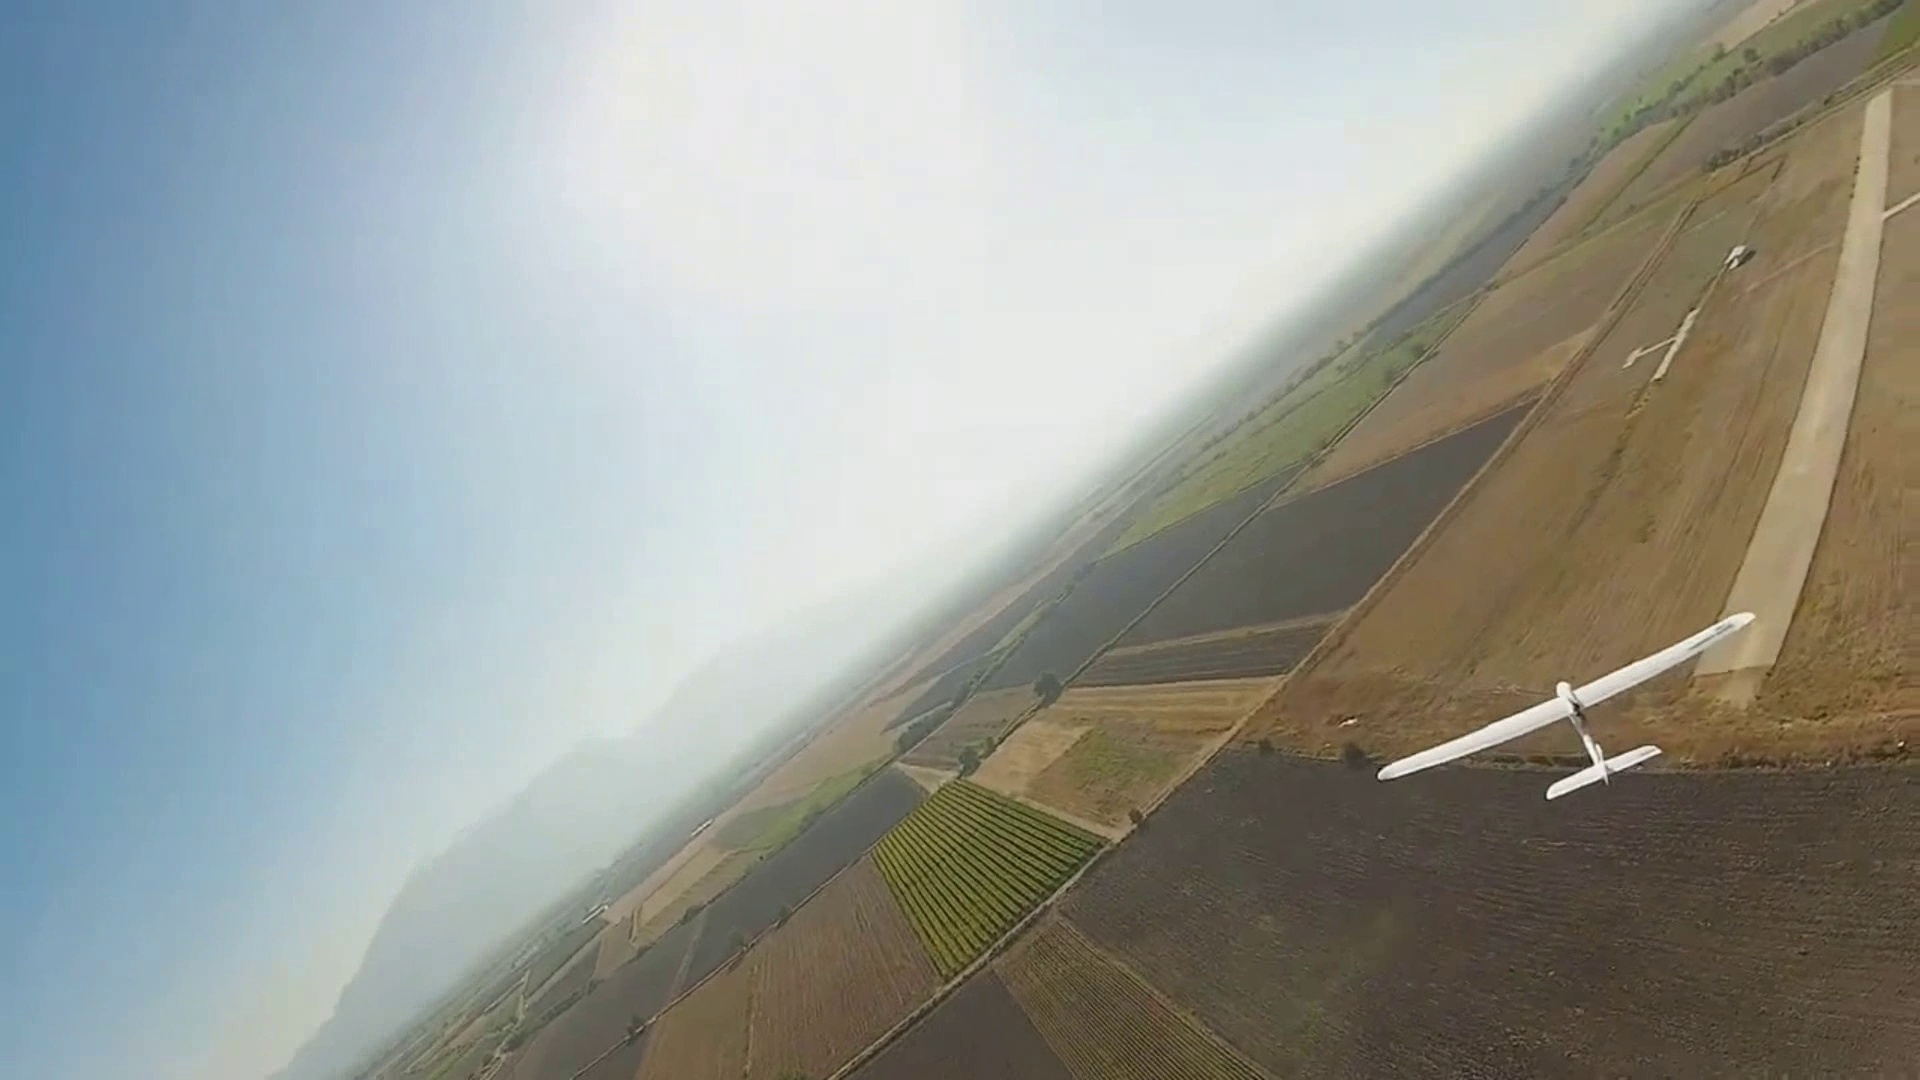airplane: (258, 16, 1898, 1068), (1375, 607, 1758, 796)
